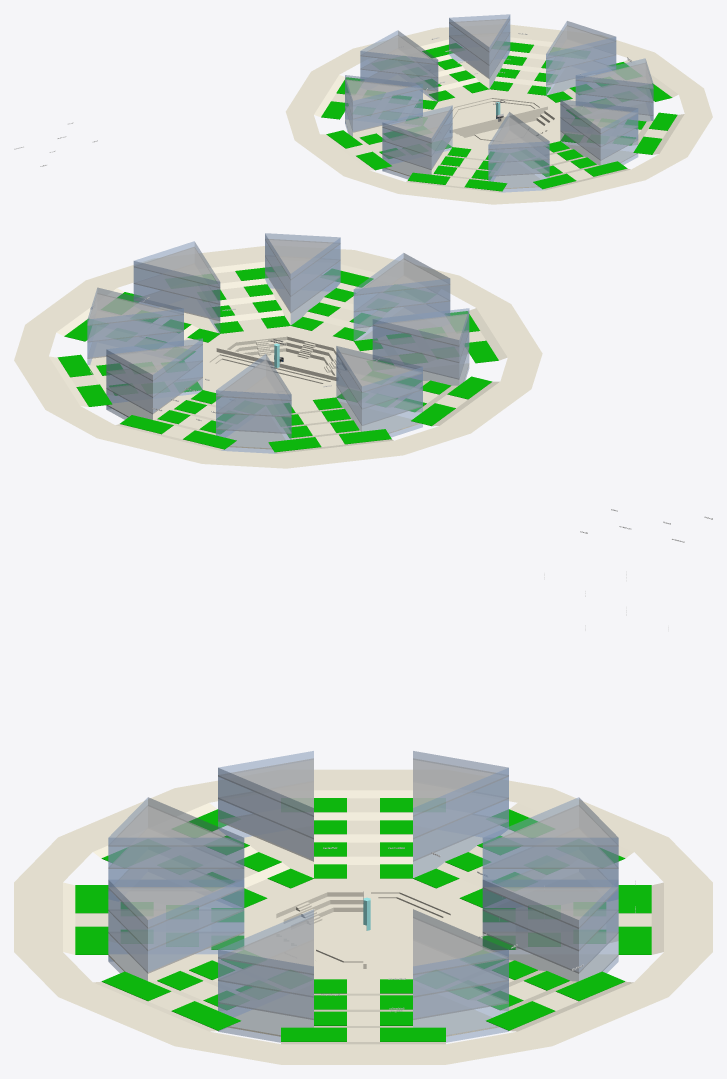
File: comunidad hispana creadores COLISION2.fbx
3 views of the same model, one above another, from view 1: azimuth 30°, elevation 25°; view 2: azimuth 150°, elevation 25°; view 3: azimuth 270°, elevation 25° (orthographic). The views are drawn at different scales.
Visible parts, largest first — view 1: comunidad hispana creadores 3; view 2: comunidad hispana creadores 3; view 3: comunidad hispana creadores 3.
Boxes of the visible parts, left/top/right/bottom form: comunidad hispana creadores 3: left=14, top=14, right=712, bottom=204; comunidad hispana creadores 3: left=14, top=233, right=712, bottom=542; comunidad hispana creadores 3: left=14, top=571, right=712, bottom=1064.
Bounding box in the file's own units: 13826 × 1125 × 8487.
